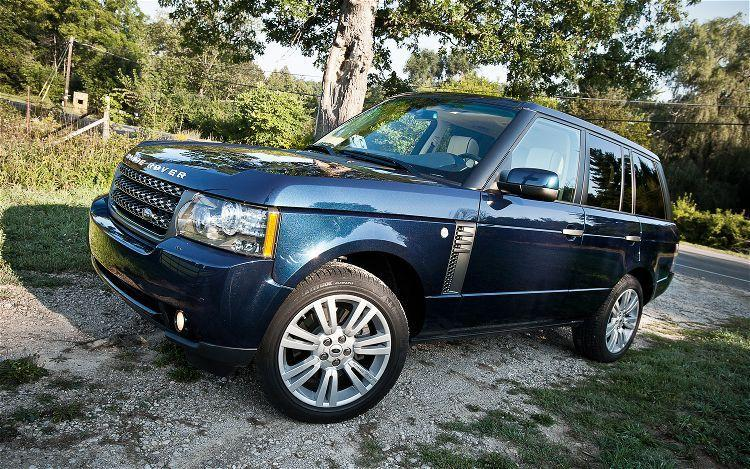range rover: (124, 149, 189, 185)
